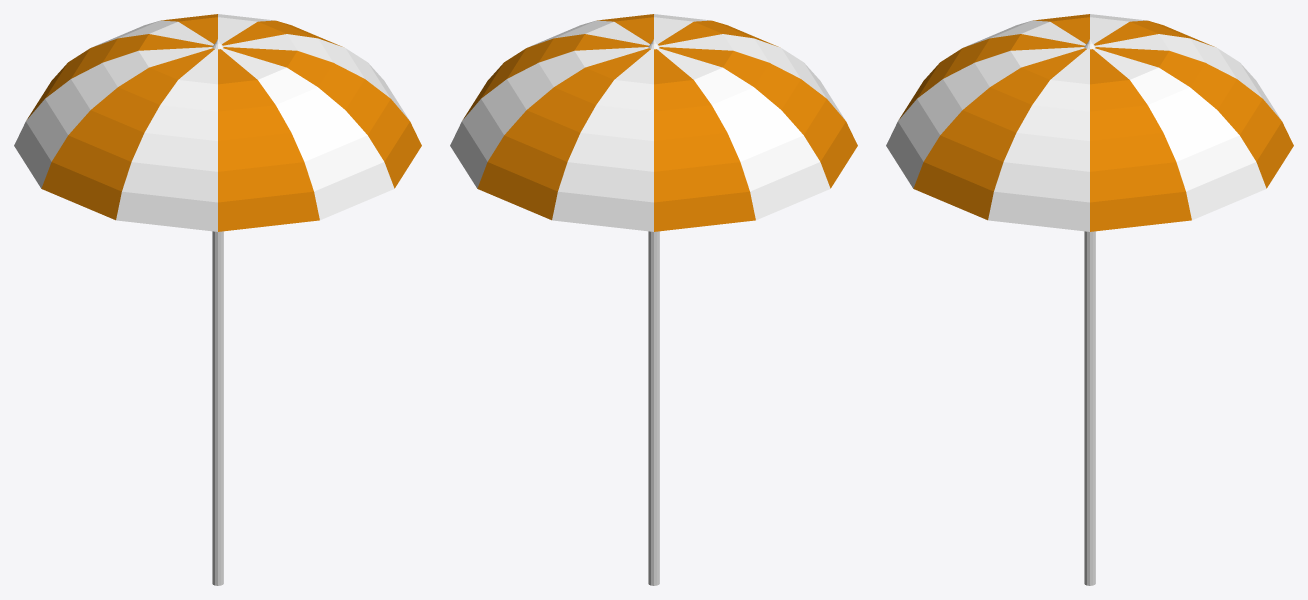
The model's file is parasol.glb.
The picture shows the model from 3 angles, left to right: view 1: azimuth 30°, elevation 25°; view 2: azimuth 150°, elevation 25°; view 3: azimuth 270°, elevation 25°; orthographic projection.
Parts seen in each view (by area): view 1: Sphere; view 2: Sphere; view 3: Sphere.
Boxes of the visible parts, left/top/right/bottom form: Sphere: left=14, top=14, right=421, bottom=585; Sphere: left=450, top=14, right=857, bottom=585; Sphere: left=886, top=14, right=1293, bottom=585.
Bounding box in the file's own units: 2.84 × 4.17 × 2.84.
